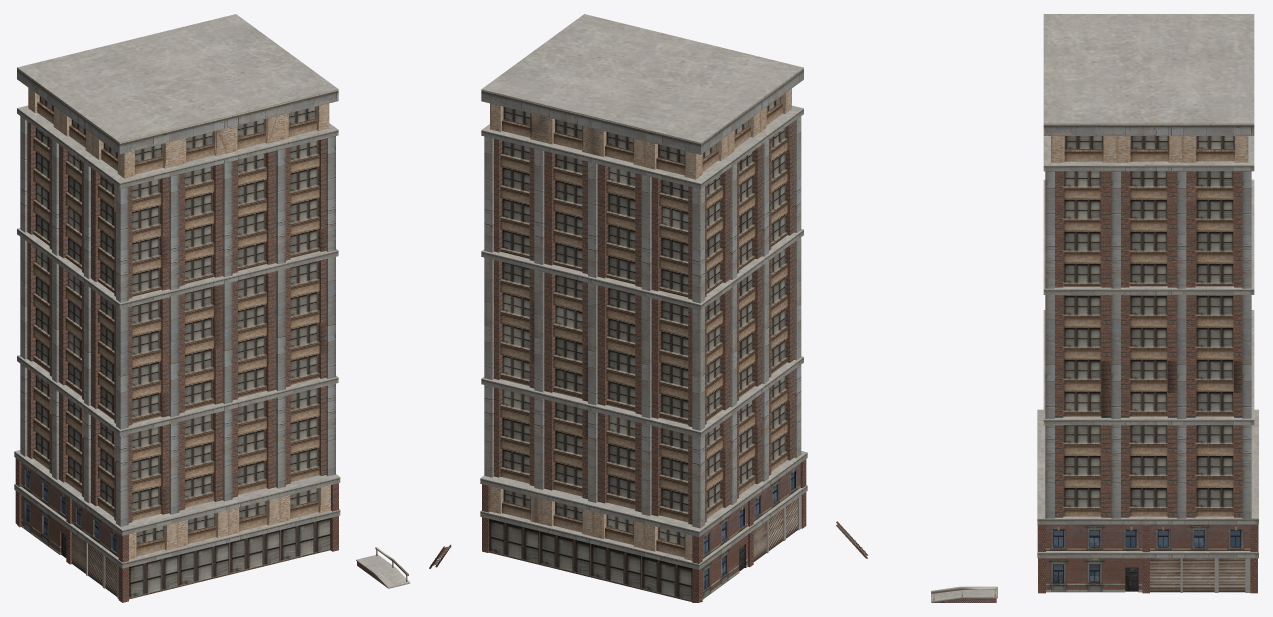
Rendered from Building2_noSidebuildingp6.fbx.
3 renders of one model, left to right at view 1: azimuth 30°, elevation 25°; view 2: azimuth 150°, elevation 25°; view 3: azimuth 270°, elevation 25°, orthographic. The views are drawn at different scales.
Parts seen in each view (by area): view 1: Atlas_001; view 2: Atlas_001; view 3: Atlas_001.
Part boxes in pixels (x1=…): Atlas_001: x1=14, y1=14, x2=451, y2=602; Atlas_001: x1=480, y1=14, x2=807, y2=602; Atlas_001: x1=836, y1=14, x2=1258, y2=602.
Bounding box in the file's own units: 3649 × 6772 × 5509.
